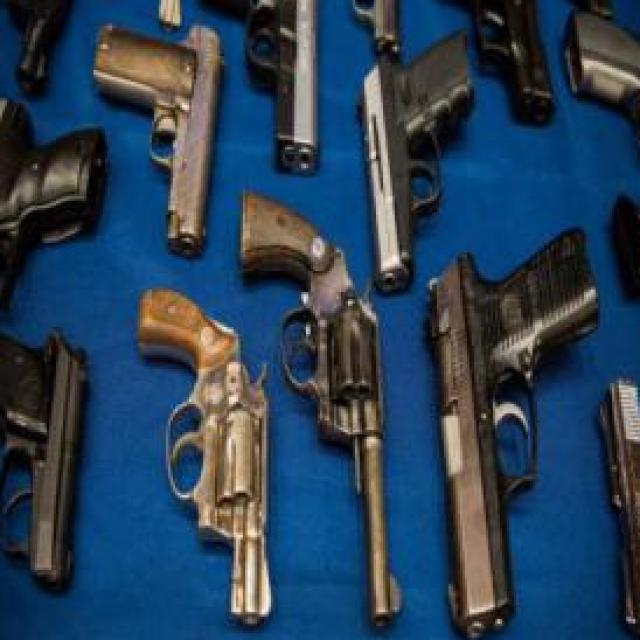pistol: (237, 185, 402, 630), (428, 224, 596, 637), (136, 287, 276, 626), (355, 18, 474, 296), (91, 23, 224, 263), (0, 320, 96, 598), (189, 0, 325, 178), (425, 0, 556, 126), (591, 378, 640, 640), (0, 0, 77, 96), (325, 0, 402, 65)
